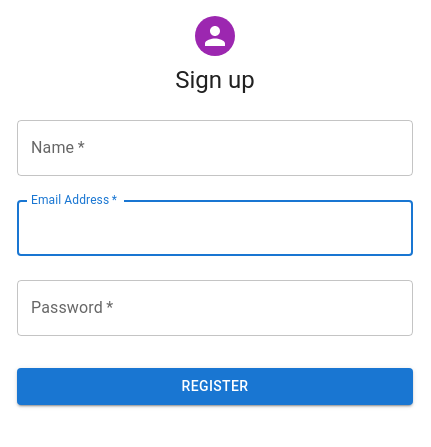
Test: renders the error message for password if no password given
Focus the field named "password" at (215, 308), box [17,280,413,336]
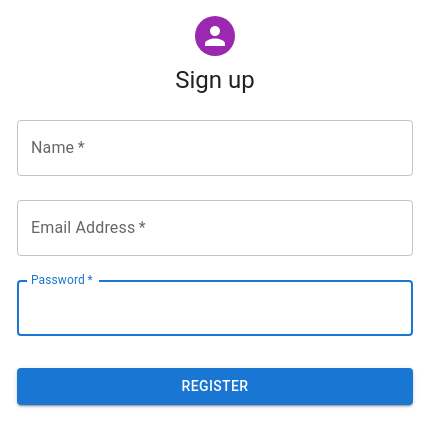
Leave the field named "password", box [17,280,413,336]
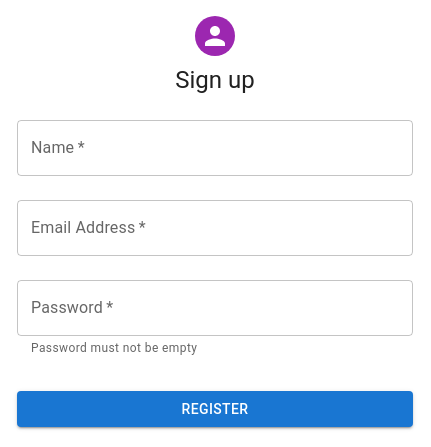
Expected: the text "Password must not be empty" is shown, [31,341,197,355]
